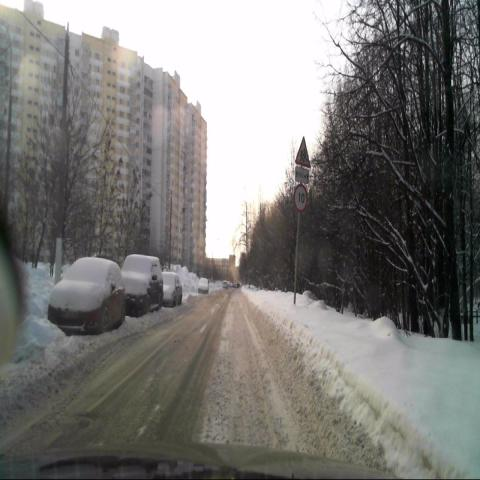1_23: (294, 136, 311, 167)
